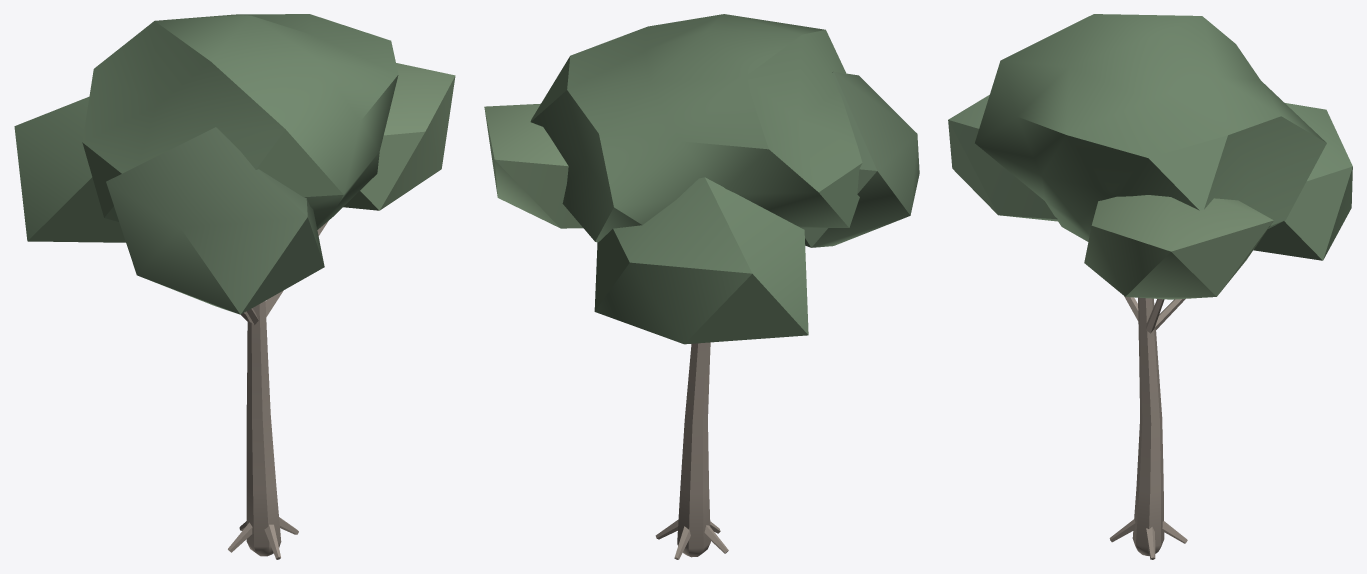
File: broadleaf_a.gltf
The picture shows the model from 3 angles, left to right: view 1: azimuth 30°, elevation 25°; view 2: azimuth 150°, elevation 25°; view 3: azimuth 270°, elevation 25°; orthographic projection. The views are drawn at different scales.
Visible parts, largest first — view 1: Body; view 2: Body; view 3: Body.
Part boxes in pixels (x1,y1,x2,y2): Body: (14, 14, 455, 559); Body: (484, 14, 919, 559); Body: (948, 14, 1352, 559).
Bounding box in the file's own units: 7.66 × 10.4 × 7.5.
